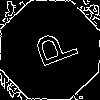P: (25, 25, 80, 73)
